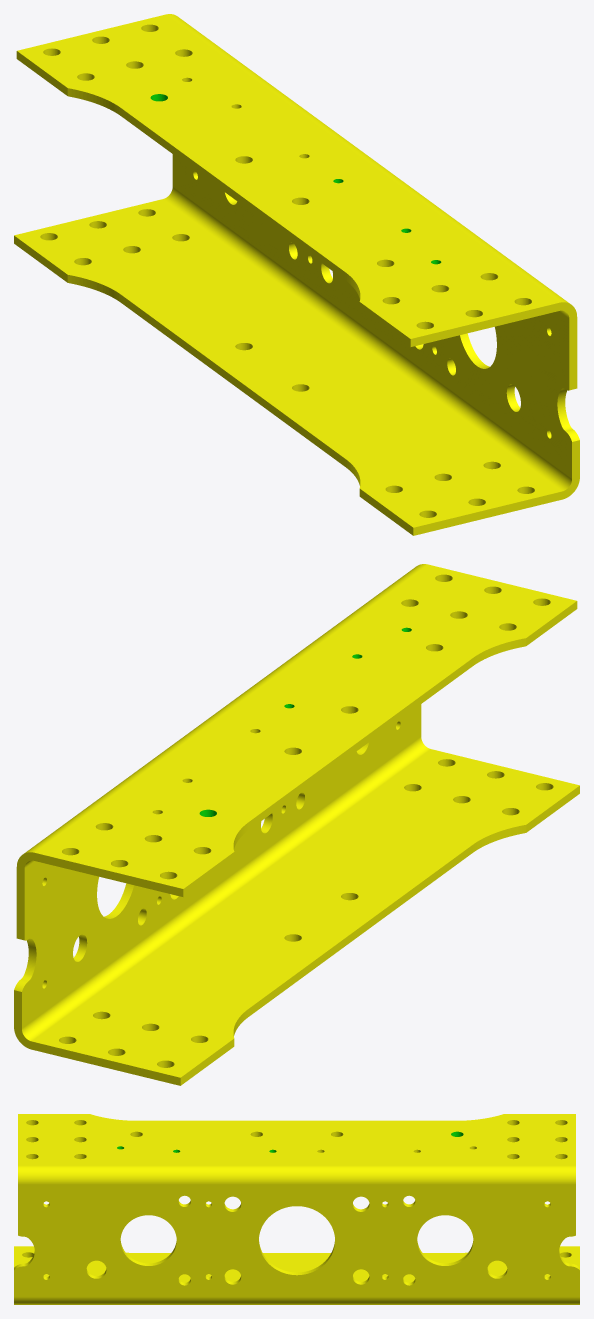
3 renders of one model, top to bottom at view 1: azimuth 30°, elevation 25°; view 2: azimuth 150°, elevation 25°; view 3: azimuth 270°, elevation 25°, orthographic. The views are drawn at different scales.
Visible parts, largest first — view 1: Node1; view 2: Node1; view 3: Node1.
Boxes of the visible parts, x1,y1,x2,y2 form: Node1: [14, 14, 579, 535]; Node1: [14, 564, 579, 1085]; Node1: [14, 1114, 579, 1304].
Bounding box in the file's own units: 170 × 190 × 706.
